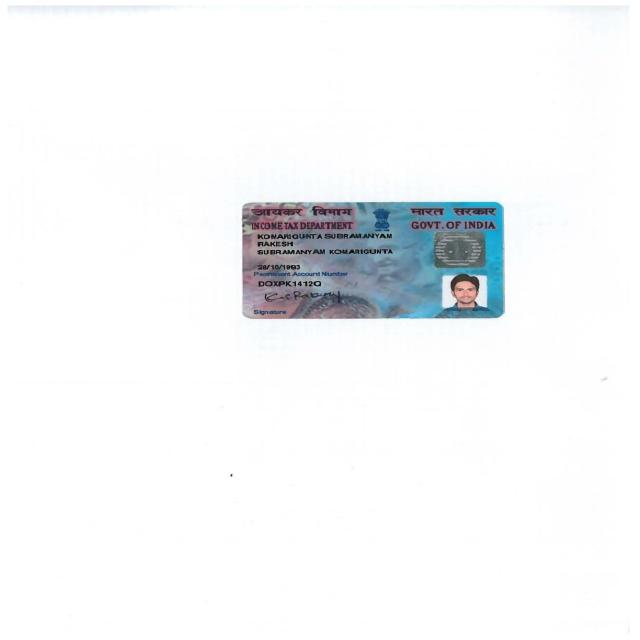pan_card: (241, 202, 505, 321)
